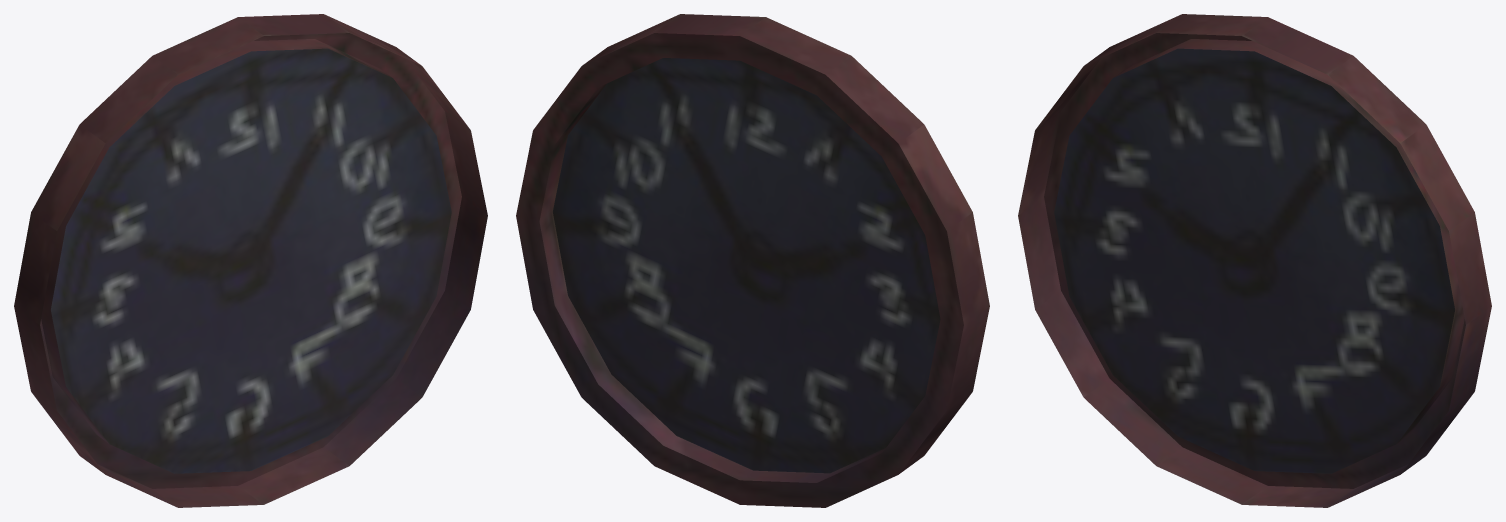
The model's file is time.fbx.
3 views of the same model, side by side, from view 1: azimuth 30°, elevation 25°; view 2: azimuth 150°, elevation 25°; view 3: azimuth 330°, elevation 25° (orthographic).
Visible parts, largest first — view 1: Boxes.027; view 2: Boxes.027; view 3: Boxes.027.
Boxes of the visible parts, x1,y1,x2,y2 form: Boxes.027: (14,14,487,507); Boxes.027: (516,14,989,507); Boxes.027: (1018,14,1491,507).
Bounding box in the file's own units: 46.03 × 46.03 × 4.62.
